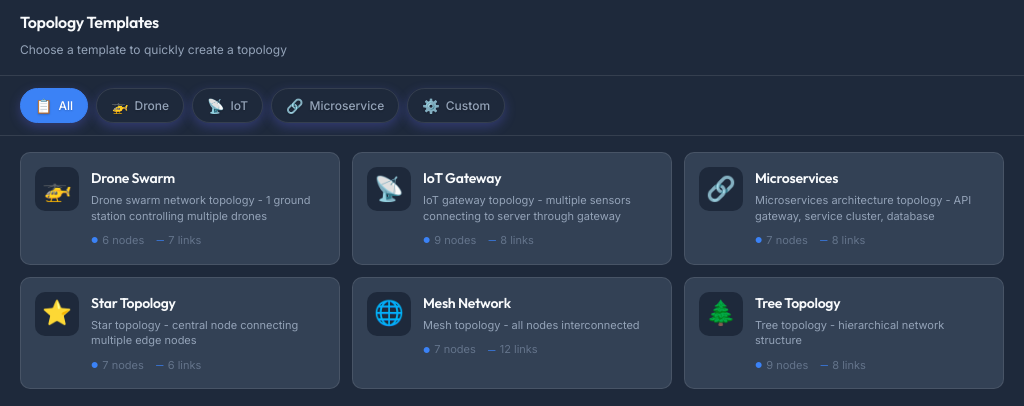
Test: TopologyTemplates › Category Filtering › should filter templates by category
The image size is (1024, 406).
Note: Click Drone category
Click the text "Drone" at (152, 105), box [134,98,169,113]
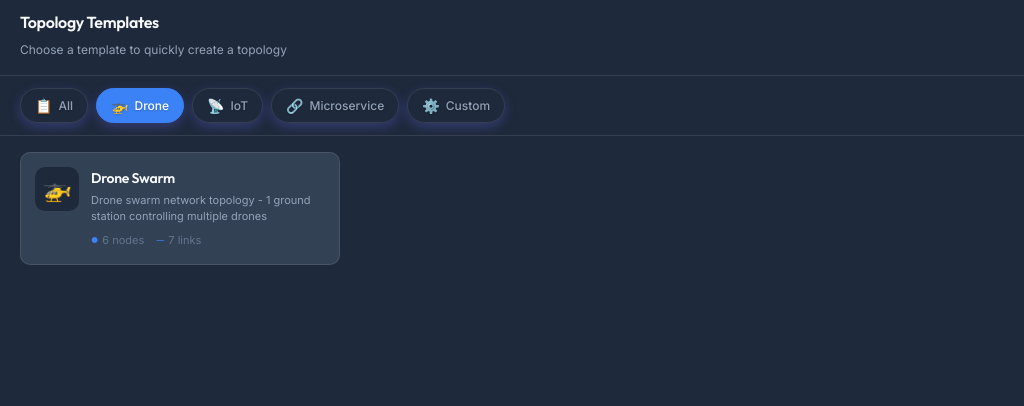
Now the heading "IoT Gateway" is gone
Now the heading "Microservices" is gone
Now the heading "Star Topology" is gone
